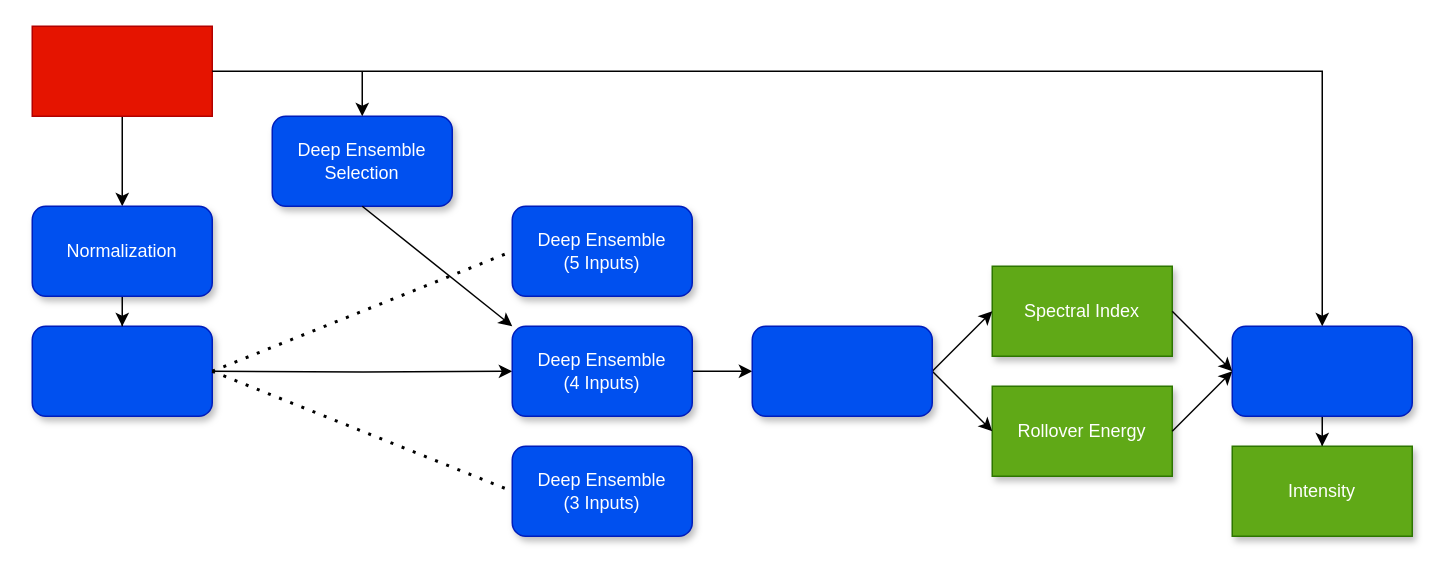
The diagram is 1448 pixels wide and 573 high, and some of its shapes have lost their labels. The shapes that lost their labels are listed below. From the top down, each one's centre as x and y in pixels, then its label:
At (121,70): "Count Rates".
At (123,373): "Feature Preprocessing (LogStandardization)".
At (843,373): "Output Preprocessing Inversion".
At (1323,373): "Intensity Estimation with Linear Fit".
